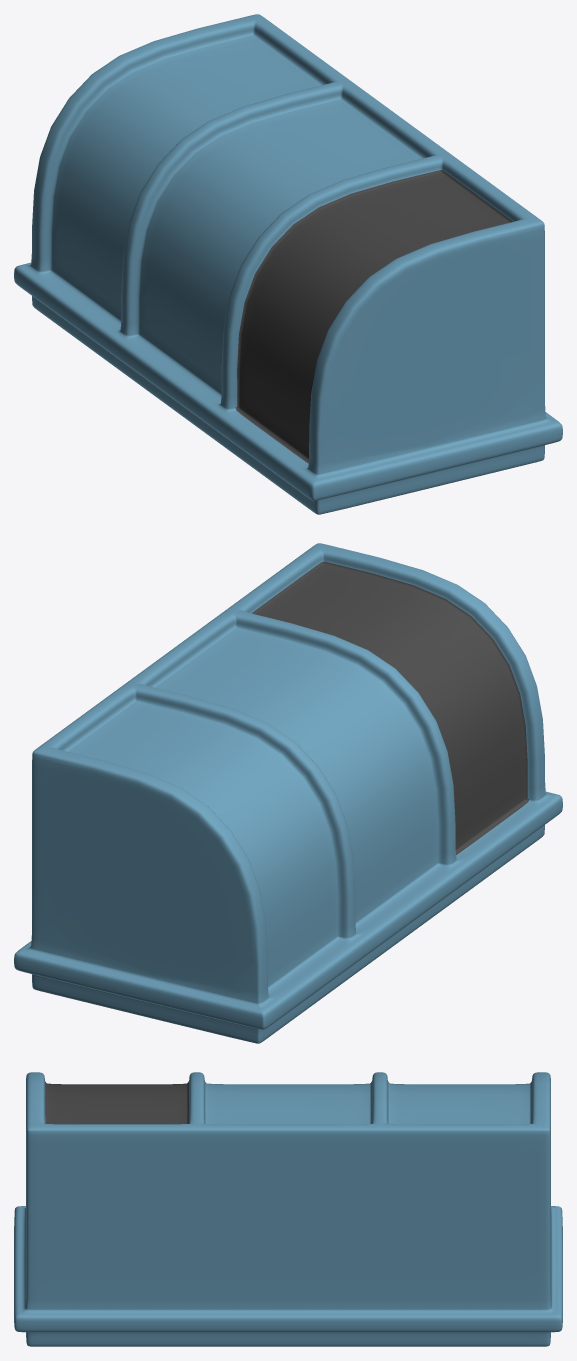
The model's file is prueba_____________________.fbx.
The picture shows the model from 3 angles, top to bottom: view 1: azimuth 30°, elevation 25°; view 2: azimuth 150°, elevation 25°; view 3: azimuth 270°, elevation 25°; orthographic projection. The views are drawn at different scales.
Visible parts, largest first — view 1: polySurface43; view 2: polySurface43; view 3: polySurface43.
Part boxes in pixels (<box>): polySurface43: <box>14,14,562,514</box>; polySurface43: <box>14,543,562,1043</box>; polySurface43: <box>14,1072,562,1346</box>.
Size of the model in its own units: 122 by 111 by 252.
